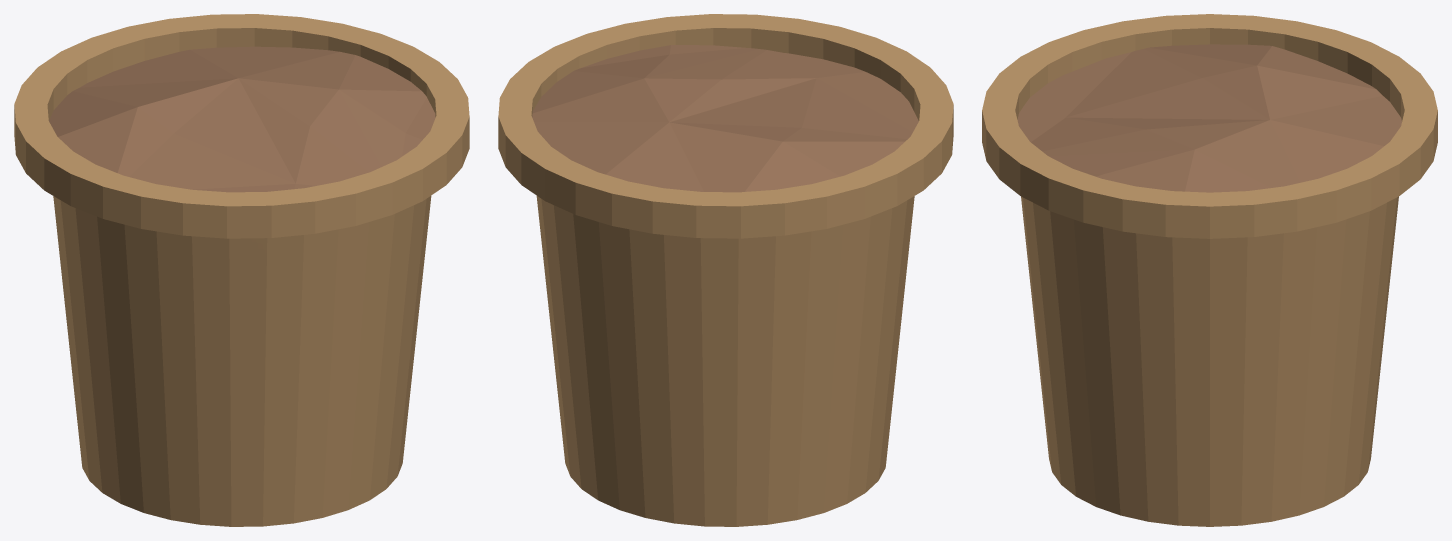
Rendered from maceta.fbx.
3 views of the same model, side by side, from view 1: azimuth 30°, elevation 25°; view 2: azimuth 150°, elevation 25°; view 3: azimuth 270°, elevation 25° (orthographic).
Parts seen in each view (by area): view 1: maceta; view 2: maceta; view 3: maceta.
Boxes of the visible parts, box(x1,y1,x2,y2) form: maceta: box(14, 14, 469, 526); maceta: box(498, 14, 953, 526); maceta: box(982, 14, 1437, 526).
Bounding box in the file's own units: 234 × 201 × 234.
1 material, 1 textured.
